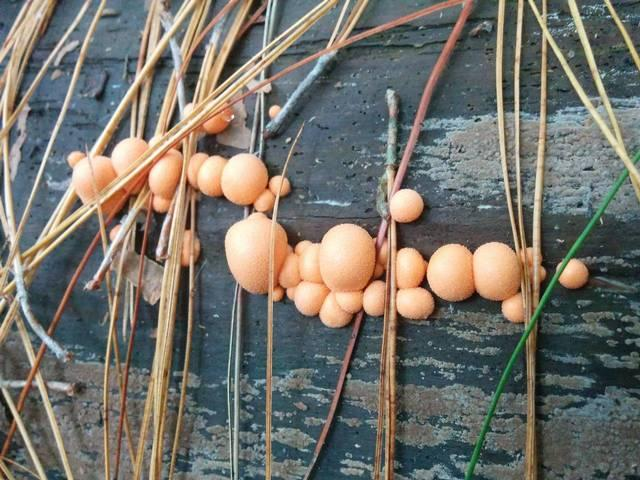Non-edible Mushroom: (109, 129, 295, 231), (223, 212, 288, 295), (317, 222, 376, 291), (472, 240, 521, 301), (426, 242, 474, 302), (219, 152, 268, 206), (70, 153, 116, 207), (395, 286, 434, 320), (388, 187, 424, 223), (557, 257, 589, 289)
